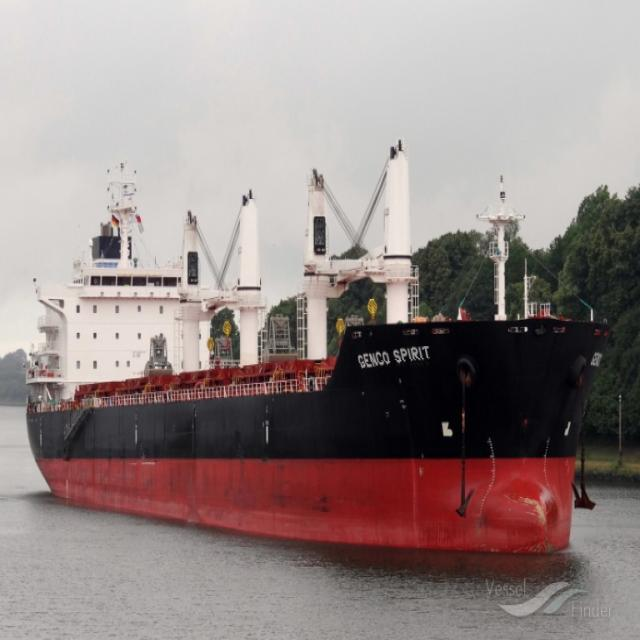OCR: (356, 346, 432, 374)
